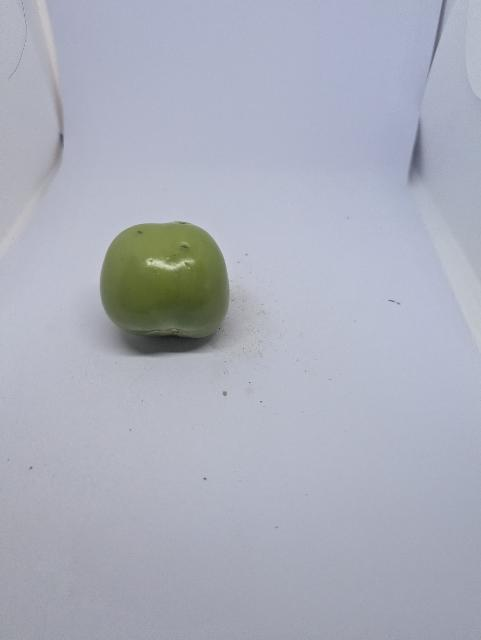green: (97, 218, 234, 343)
